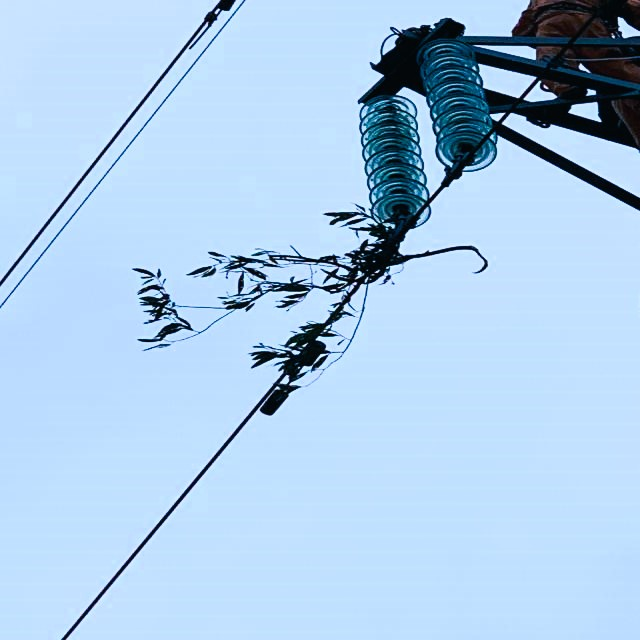wire foreign body: (193, 215, 473, 376)
